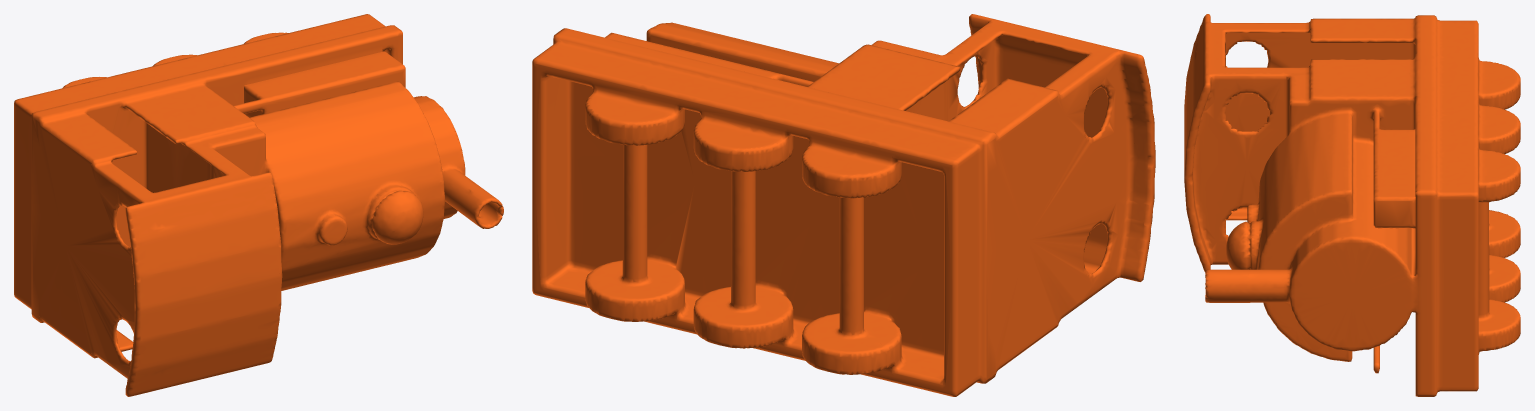
The model's file is womp3.gltf.
The picture shows the model from 3 angles, left to right: view 1: azimuth 30°, elevation 25°; view 2: azimuth 150°, elevation 25°; view 3: azimuth 270°, elevation 25°; orthographic projection. The views are drawn at different scales.
Parts seen in each view (by area): view 1: 1; view 2: 1; view 3: 1.
Boxes of the visible parts, x1,y1,x2,y2 form: 1: (14, 14, 503, 396); 1: (532, 14, 1155, 396); 1: (1184, 14, 1520, 396).
Bounding box in the file's own units: 10.46 × 5.38 × 7.96.
1 material, 1 textured.
